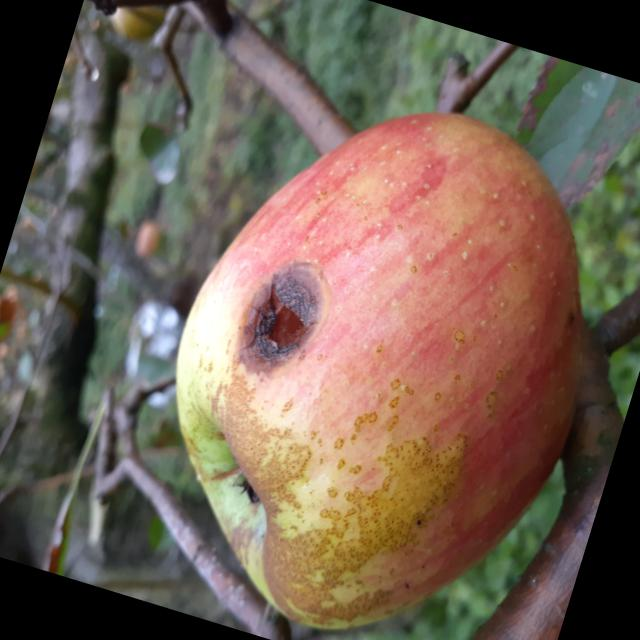rotten: (102, 44, 640, 640)
